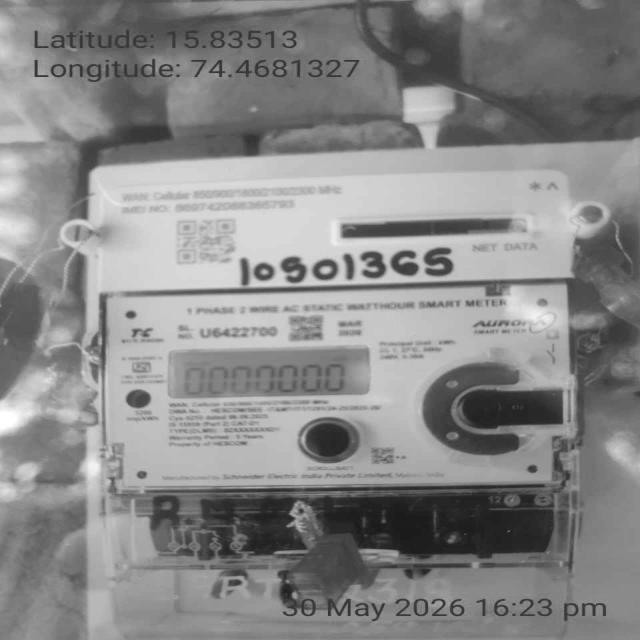meter: (89, 172, 576, 490)
